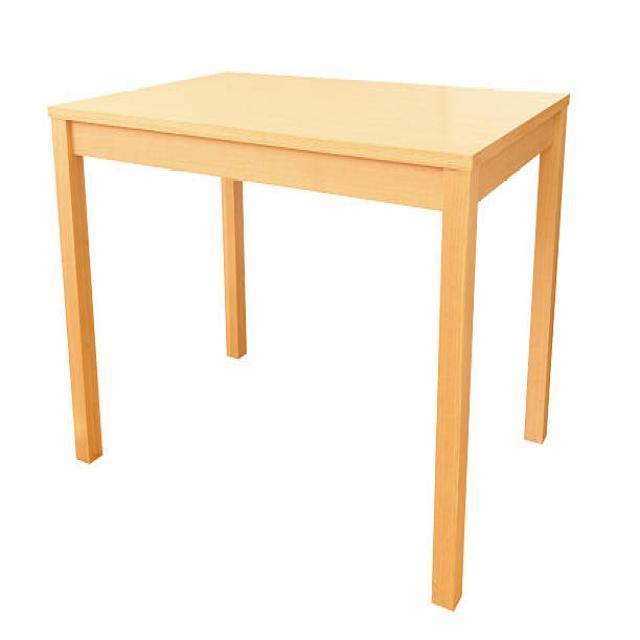table: (47, 69, 570, 610)
